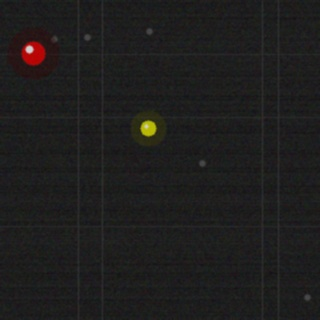red_fault: (19, 39, 47, 67)
yellow_warning: (138, 118, 158, 138)
